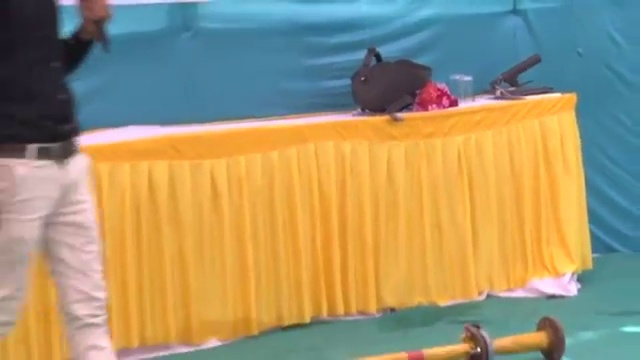person: (1, 1, 121, 360)
